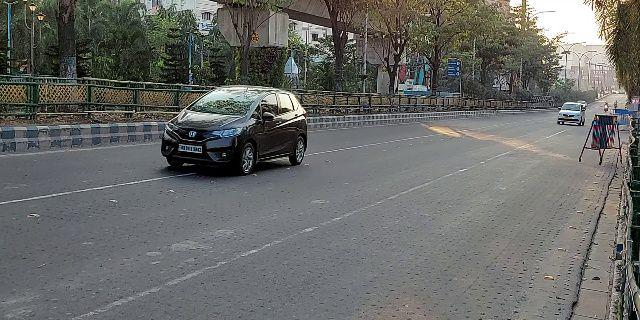Car: (155, 79, 313, 179), (554, 101, 586, 129)
